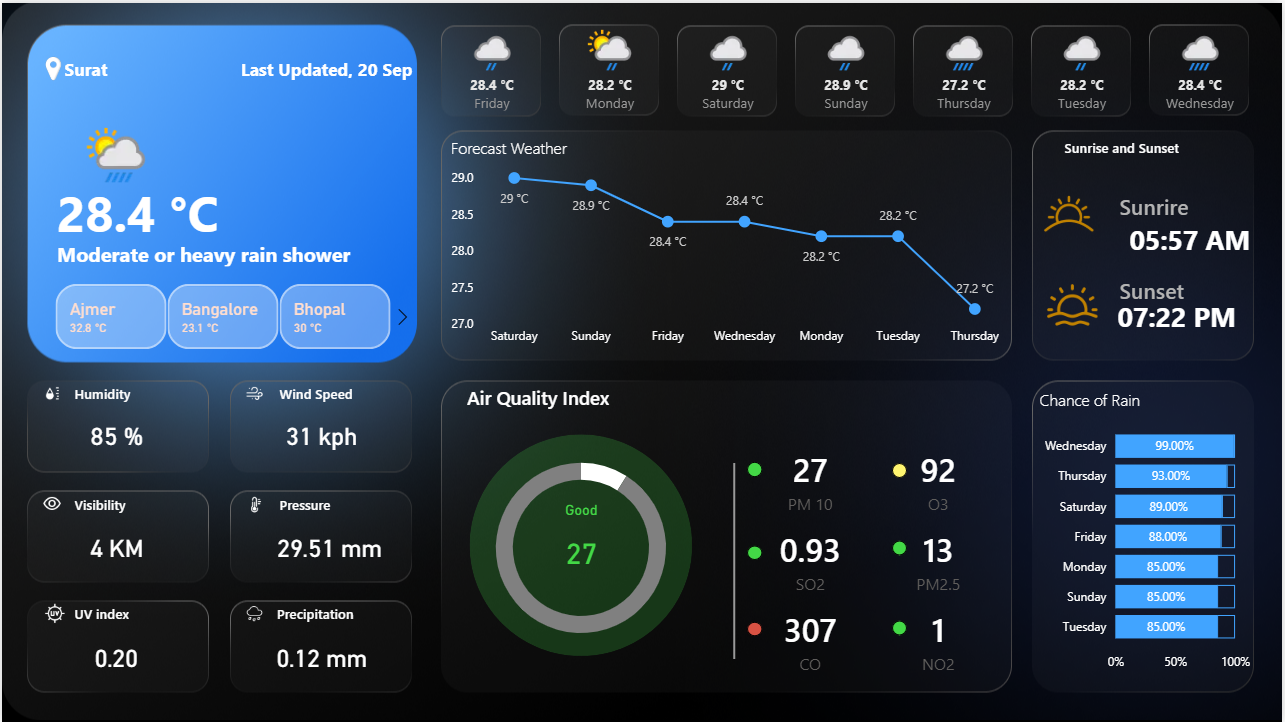

The page's visual inventory and layout, read from the dashboard file:
{"tool":"powerbi","page":{"name":"Main","canvas":[1280,720],"ordinal":0},"visuals":[{"type":"advancedSlicerVisual","fields":{"Values":["location.location.name"]},"box":[28.8,276.2,387.5,75],"z":0},{"type":"shape","box":[55,153.6,222.5,108.8],"z":1000},{"type":"shape","box":[55,224.8,333.8,50],"z":2000},{"type":"shape","box":[63.1,41.5,136.9,50],"z":3000},{"type":"shape","box":[184.6,41.5,225.4,50],"z":4000},{"type":"image","box":[33.8,49.2,35.4,33.8],"z":5000},{"type":"advancedSlicerVisual","fields":{"Values":["forcast_day.Day_Formated"]},"box":[429.9,15.9,831,109.6],"z":6000},{"type":"lineChart","title":"Forecast Weather","fields":{"Y":["Sum(forcast_day.forecast.forecastday.day.avgtemp_c)"],"Category":["forcast_day.Day_Formated"]},"box":[444,134,565,217],"z":7000},{"type":"shape","box":[1063,126,135,37],"z":8000},{"type":"shape","box":[1117,189,144,54],"z":9000},{"type":"shape","box":[1117,273,144,54],"z":10000},{"type":"shape","box":[1127,199,144,54],"z":11000},{"type":"shape","box":[1102,276,144,54],"z":12000},{"type":"image","box":[1033,177,69,66],"z":13000},{"type":"image","box":[1039,276,63,51],"z":14000},{"type":"hundredPercentStackedBarChart","title":"Chance of Rain","fields":{"Y":["Sum(forcast_day.forecast.forecastday.day.daily_chance_of_rain)","_measure.Leftvalue_rain"],"Category":["forcast_day.Day_Formated"]},"box":[1033.1,385.4,220.8,292.3],"z":15000},{"type":"cardVisual","fields":{"Data":["Min(current_tbl.current.condition.icon)"]},"box":[21.5,28.5,186.2,173.8],"z":16000},{"type":"shape","box":[464.5,380,229.2,30.2],"z":21000},{"type":"shape","box":[618.5,459.5,227,196],"z":22000},{"type":"shape","box":[745.5,459.1,15.5,15.5],"z":23000},{"type":"shape","box":[745.5,542.7,15.5,14.5],"z":24000},{"type":"shape","box":[745.5,618.2,15.5,14.5],"z":25000},{"type":"shape","box":[890,459.5,15,15],"z":26000},{"type":"shape","box":[890,538,15,15],"z":27000},{"type":"shape","box":[890,618,15,15],"z":28000},{"type":"card","fields":{"Values":["Sum(current_tbl.current.air_quality.pm10)"]},"box":[522,499.3,114,86],"z":29000},{"type":"shape","box":[467.5,431.7,222.8,222],"z":30000},{"type":"cardVisual","fields":{"Data":["Sum(current_tbl.current.air_quality.pm10)","Sum(current_tbl.current.air_quality.o3)","Sum(current_tbl.current.air_quality.so2)","Sum(current_tbl.current.air_quality.pm2_5)","Sum(current_tbl.current.air_quality.co)","Sum(current_tbl.current.air_quality.no2)"]},"box":[731.7,424.4,282.1,267.5],"z":31000},{"type":"donutChart","fields":{"Y":["Sum(current_tbl.current.air_quality.pm10)","_measure.left_vlu_pm10"]},"box":[377.2,434.1,403.3,222.8],"z":32000},{"type":"image","box":[243.6,490.7,17.9,21.1],"z":33000},{"type":"image","box":[40.7,380,17.9,21.1],"z":34000},{"type":"image","box":[243.6,600,17.9,21.1],"z":35000},{"type":"image","box":[40.7,490.4,17.9,21.1],"z":36000},{"type":"image","box":[243.6,380,17.9,21.1],"z":37000},{"type":"shape","box":[72.9,380,135,21.4],"z":38000},{"type":"shape","box":[277.9,380,135,21.4],"z":39000},{"type":"shape","box":[72.9,490.7,135,20.7],"z":40000},{"type":"shape","box":[277.9,490.7,135,20.7],"z":41000},{"type":"shape","box":[275,600,135,21.4],"z":42000},{"type":"card","fields":{"Values":["Humidity.Humidity"]},"box":[38.6,410,152.1,45],"z":43000},{"type":"card","fields":{"Values":["_measure.pressure"]},"box":[252.9,522.9,150,45],"z":44000},{"type":"card","fields":{"Values":["_measure.prec"]},"box":[243.6,632.9,152.1,45],"z":45000},{"type":"card","fields":{"Values":["_measure.visi"]},"box":[38.6,522.9,152.1,45],"z":46000},{"type":"card","fields":{"Values":["_measure.wind_speed"]},"box":[243.6,410,152.1,45],"z":47000},{"type":"image","box":[42.3,600,20.8,21.5],"z":48000},{"type":"shape","box":[73.1,600,134.6,20.8],"z":49000},{"type":"card","fields":{"Values":["Sum(current_tbl.current.uv)"]},"box":[39.2,633.1,151.5,44.6],"z":50000}]}

Visuals, with their boxes in screenshot pixels (x1, y1, x2, y2), scaled from the page's 1280x720 canvas onto the 1285x722 screenshot:
advancedSlicerVisual - location.location.name: 29 277 418 352
shape: 55 154 279 263
shape: 55 225 390 276
shape: 63 42 201 92
shape: 185 42 412 92
image: 34 49 69 83
advancedSlicerVisual - forcast_day.Day_Formated: 432 16 1266 126
"Forecast Weather" lineChart: 446 134 1013 352
shape: 1067 126 1203 163
shape: 1121 190 1266 244
shape: 1121 274 1266 328
shape: 1131 200 1276 254
shape: 1106 277 1251 331
image: 1037 177 1106 244
image: 1043 277 1106 328
"Chance of Rain" hundredPercentStackedBarChart: 1037 386 1259 680
cardVisual - Min(current_tbl.current.condition.icon): 22 29 209 203
shape: 466 381 696 411
shape: 621 461 849 657
shape: 748 460 764 476
shape: 748 544 764 559
shape: 748 620 764 634
shape: 893 461 909 476
shape: 893 539 909 555
shape: 893 620 909 635
card - Sum(current_tbl.current.air_quality.pm10): 524 501 638 587
shape: 469 433 693 656
cardVisual - Sum(current_tbl.current.air_quality.pm10) x Sum(current_tbl.current.air_quality.o3): 735 426 1018 694
donutChart - Sum(current_tbl.current.air_quality.pm10) x _measure.left_vlu_pm10: 379 435 784 659
image: 245 492 263 513
image: 41 381 59 402
image: 245 602 263 623
image: 41 492 59 513
image: 245 381 263 402
shape: 73 381 209 403
shape: 279 381 415 403
shape: 73 492 209 513
shape: 279 492 415 513
shape: 276 602 412 623
card - Humidity.Humidity: 39 411 191 456
card - _measure.pressure: 254 524 404 569
card - _measure.prec: 245 635 397 680
card - _measure.visi: 39 524 191 569
card - _measure.wind_speed: 245 411 397 456
image: 42 602 63 623
shape: 73 602 209 623
card - Sum(current_tbl.current.uv): 39 635 191 680
